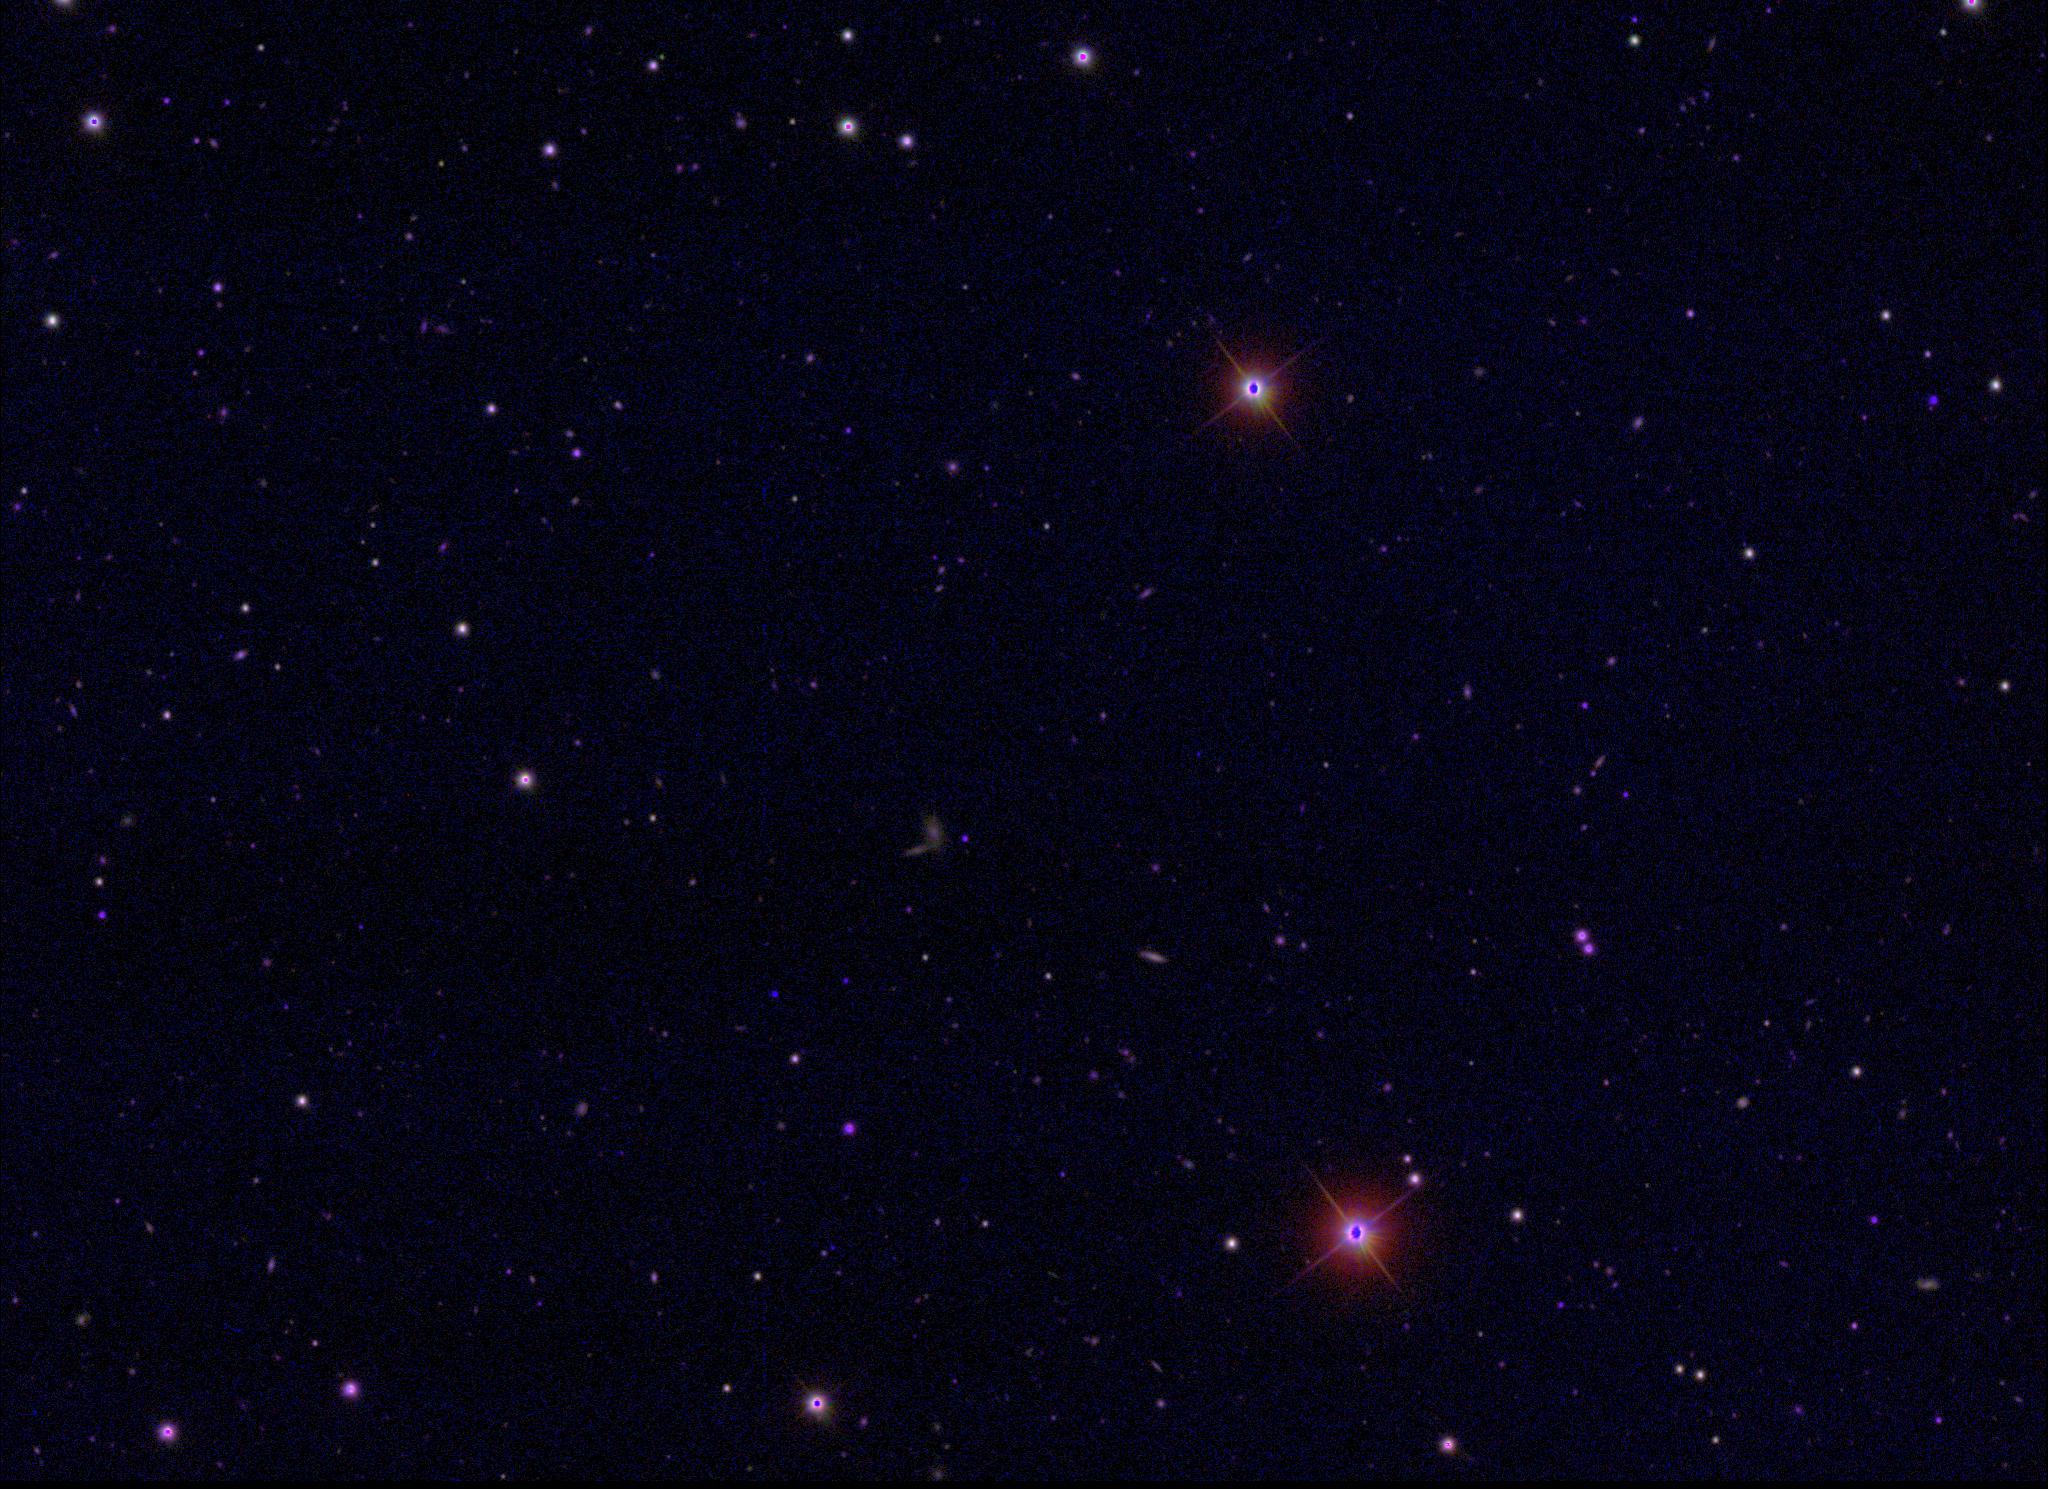L: (768, 985, 782, 999)
